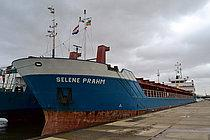Ship: (8, 44, 200, 137)
